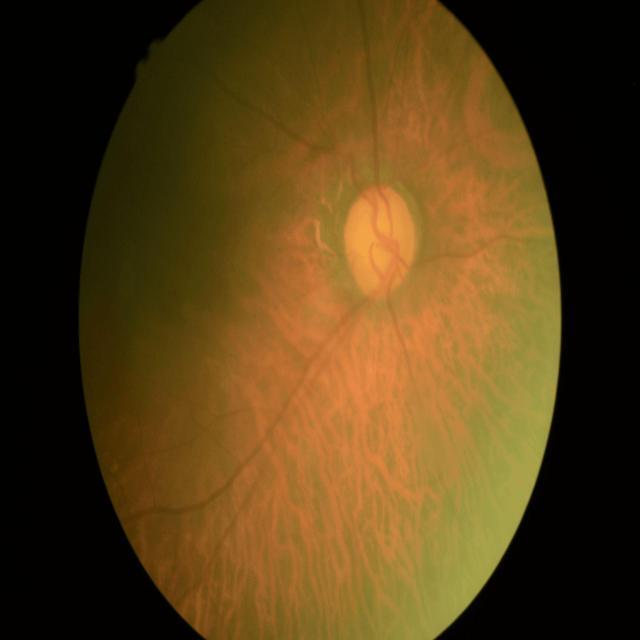cup: (355, 202, 398, 288)
disk: (342, 182, 418, 298)
